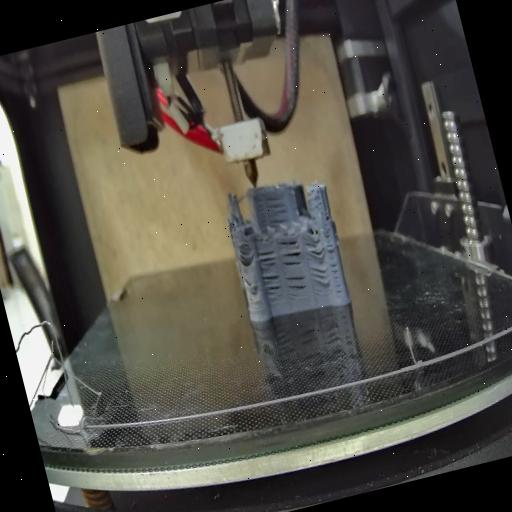cracks: (256, 246, 286, 302), (323, 234, 347, 298), (273, 232, 305, 270), (261, 189, 291, 227), (284, 270, 312, 302), (304, 236, 326, 264), (310, 264, 331, 288), (235, 243, 253, 268), (242, 275, 253, 290), (322, 208, 330, 222)
